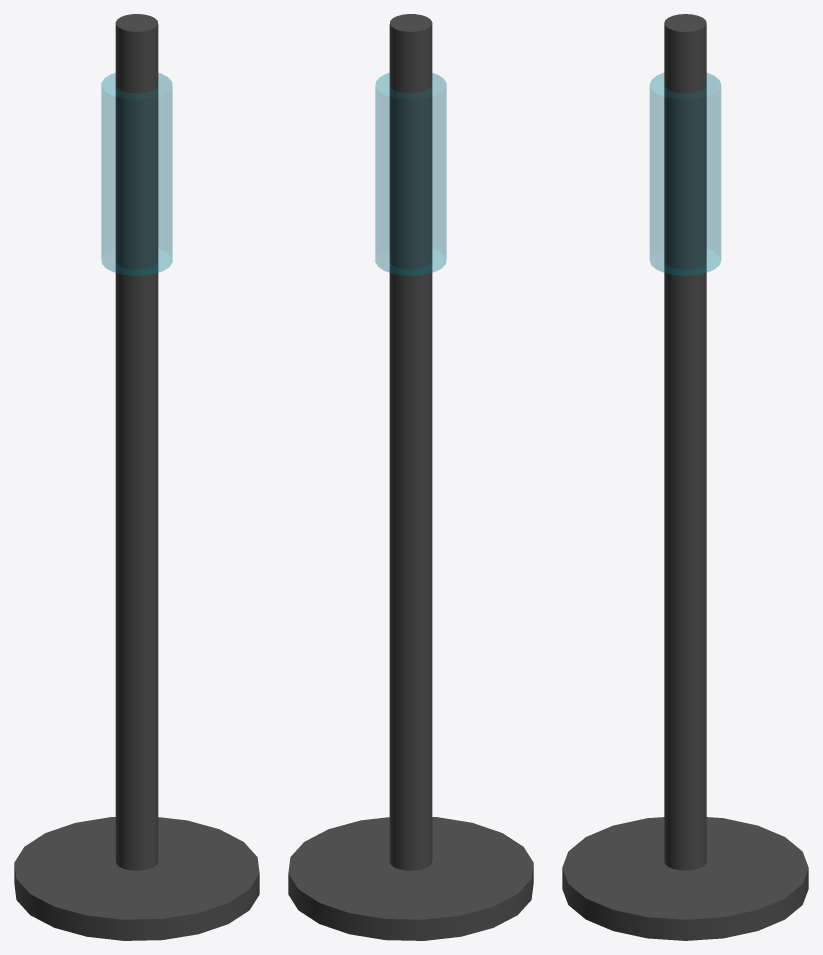
Rendered from Lamp_Stand_Base.fbx.
3 views of the same model, side by side, from view 1: azimuth 30°, elevation 25°; view 2: azimuth 150°, elevation 25°; view 3: azimuth 270°, elevation 25° (orthographic).
Parts seen in each view (by area): view 1: pCylinder2, pCylinder1, pCylinder4; view 2: pCylinder2, pCylinder1, pCylinder4; view 3: pCylinder2, pCylinder1, pCylinder4.
Part boxes in pixels (x1,y1,x2,y2): pCylinder2: (115, 14, 158, 870); pCylinder1: (14, 817, 259, 940); pCylinder4: (101, 73, 172, 275); pCylinder2: (389, 14, 432, 870); pCylinder1: (288, 817, 533, 940); pCylinder4: (375, 73, 446, 275); pCylinder2: (664, 14, 706, 870); pCylinder1: (562, 817, 808, 940); pCylinder4: (650, 73, 720, 275).
Size of the model in its own units: 2.54 by 9.83 by 2.54.
